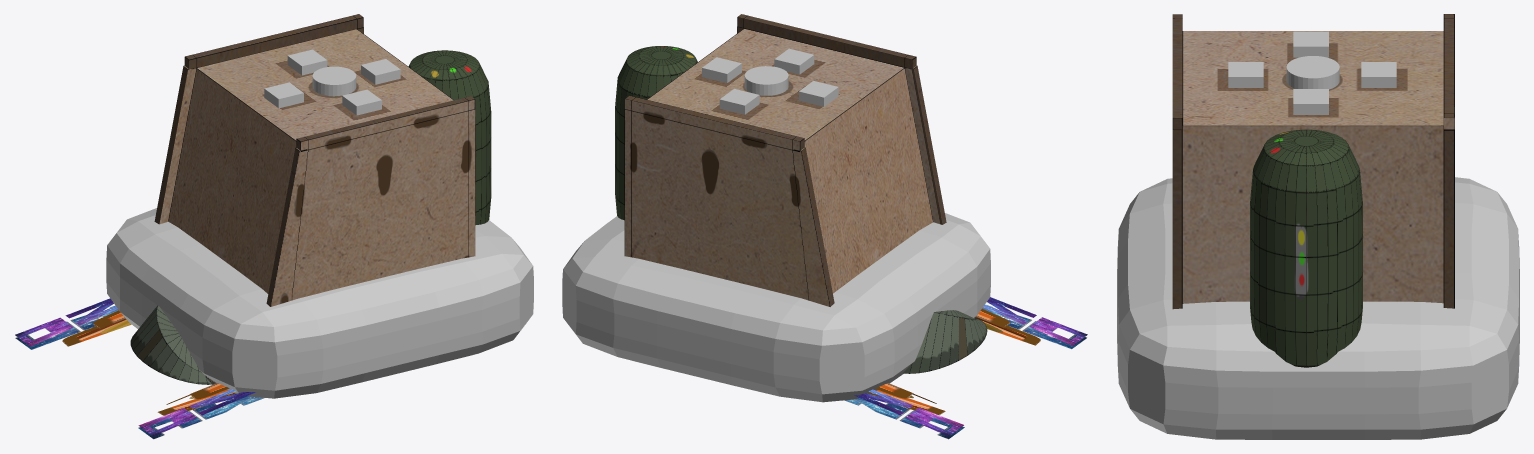
File: rope.fbx
The picture shows the model from 3 angles, left to right: view 1: azimuth 30°, elevation 25°; view 2: azimuth 150°, elevation 25°; view 3: azimuth 270°, elevation 25°; orthographic projection. The views are drawn at different scales.
Visible parts, largest first — view 1: corpo, BOIA, coletor, empilhadeira, BOTAO ATVAR, botao girar e, frente, re, botao girar d; view 2: corpo, BOIA, coletor, empilhadeira, BOTAO ATVAR, botao girar d, re, frente, botao girar e; view 3: BOIA, corpo, coletor, BOTAO ATVAR, botao girar e, botao girar d, re, frente.
Boxes of the visible parts, box(x1,y1,x2,y2) form: corpo: box(154, 14, 475, 306); BOIA: box(106, 208, 533, 398); coletor: box(130, 50, 491, 384); empilhadeira: box(15, 298, 264, 439); BOTAO ATVAR: box(312, 66, 356, 96); botao girar e: box(342, 89, 381, 115); frente: box(264, 82, 303, 108); re: box(361, 59, 400, 84); botao girar d: box(287, 49, 327, 75); corpo: box(624, 14, 946, 306); BOIA: box(562, 213, 990, 402); coletor: box(615, 46, 987, 373); empilhadeira: box(844, 297, 1087, 439); BOTAO ATVAR: box(744, 66, 788, 95); botao girar d: box(719, 88, 759, 114); re: box(702, 57, 741, 82); frente: box(799, 81, 838, 106); botao girar e: box(774, 48, 814, 74); BOIA: box(1117, 177, 1519, 439); corpo: box(1172, 14, 1454, 309); coletor: box(1250, 129, 1362, 367); BOTAO ATVAR: box(1286, 56, 1339, 89); botao girar e: box(1228, 62, 1263, 87); botao girar d: box(1361, 62, 1396, 87); re: box(1293, 89, 1328, 114); frente: box(1293, 31, 1328, 57).
Bounding box in the file's own units: 429 × 267 × 308.
